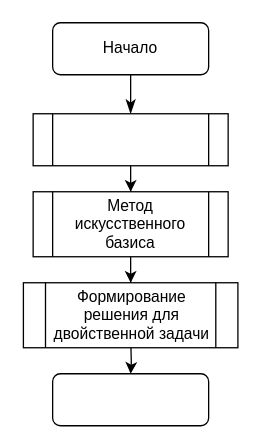
This 260x448 diagram has some shape labels left out. The centre of each missing label's shape, as x and y in pixels:
"Конец" goes at pixel 130 399.
"Удаление неравенств из системы" goes at pixel 130 139.
